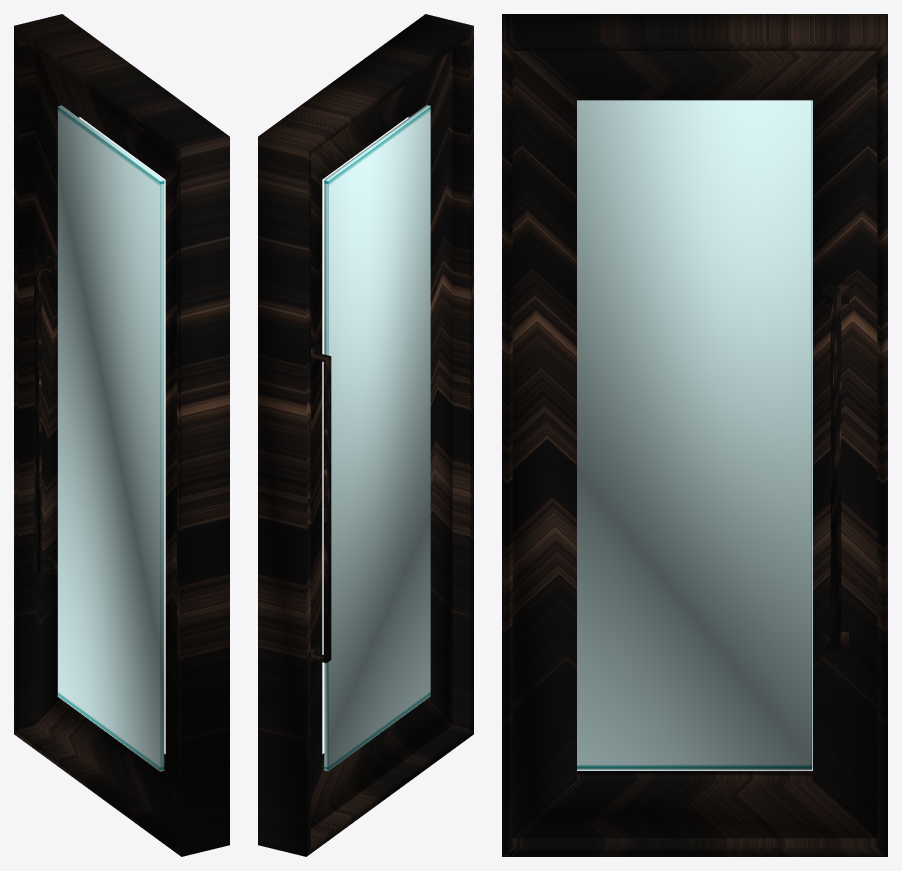
The model's file is puertaMM6.obj.
3 renders of one model, left to right at view 1: azimuth 30°, elevation 25°; view 2: azimuth 150°, elevation 25°; view 3: azimuth 270°, elevation 25°, orthographic. The views are drawn at different scales.
Visible parts, largest first — view 1: DOOR; view 2: DOOR; view 3: DOOR.
Part boxes in pixels (x1=…): DOOR: x1=14, y1=14, x2=229, y2=856; DOOR: x1=258, y1=14, x2=473, y2=856; DOOR: x1=502, y1=14, x2=887, y2=856.
Size of the model in its own units: 6 by 84 by 36.
